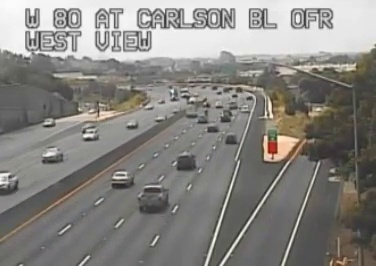car: (138, 185, 168, 209), (111, 171, 134, 186), (177, 153, 194, 169)
